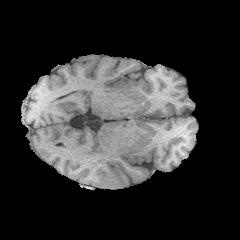glioma: (82, 159, 133, 189)
